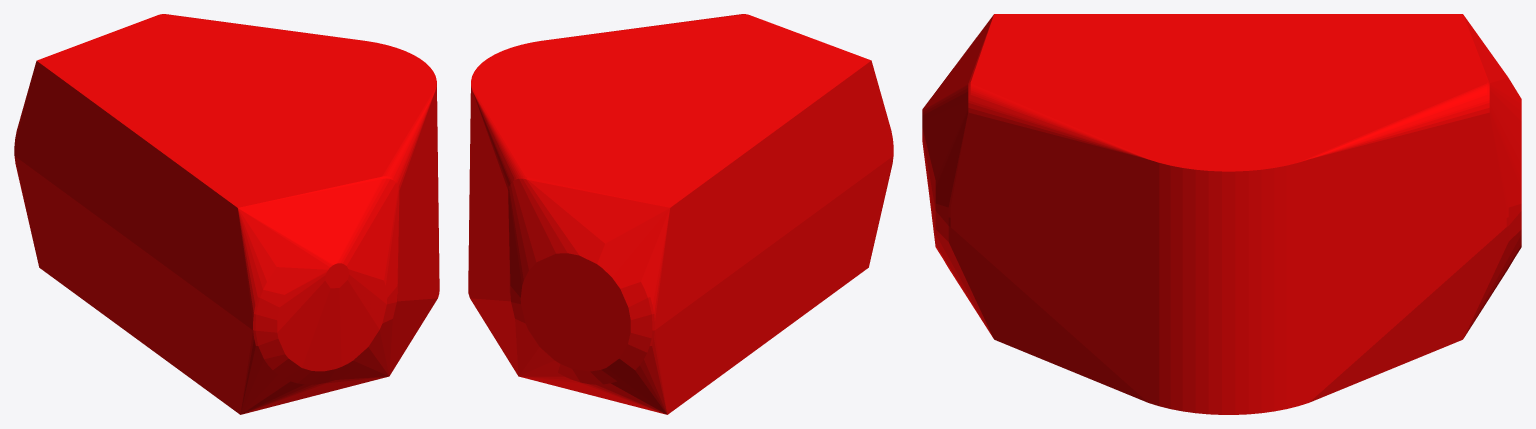
Rendered from col_mcp_link.glb.
3 views of the same model, side by side, from view 1: azimuth 30°, elevation 25°; view 2: azimuth 150°, elevation 25°; view 3: azimuth 270°, elevation 25° (orthographic). The views are drawn at different scales.
Parts seen in each view (by area): view 1: col_mcp_link; view 2: col_mcp_link; view 3: col_mcp_link.
Boxes of the visible parts, box(x1,y1,x2,y2) form: col_mcp_link: box(14, 14, 439, 414); col_mcp_link: box(468, 14, 893, 414); col_mcp_link: box(922, 14, 1521, 414).
Size of the model in its own units: 0.0301 by 0.0211 by 0.046.
